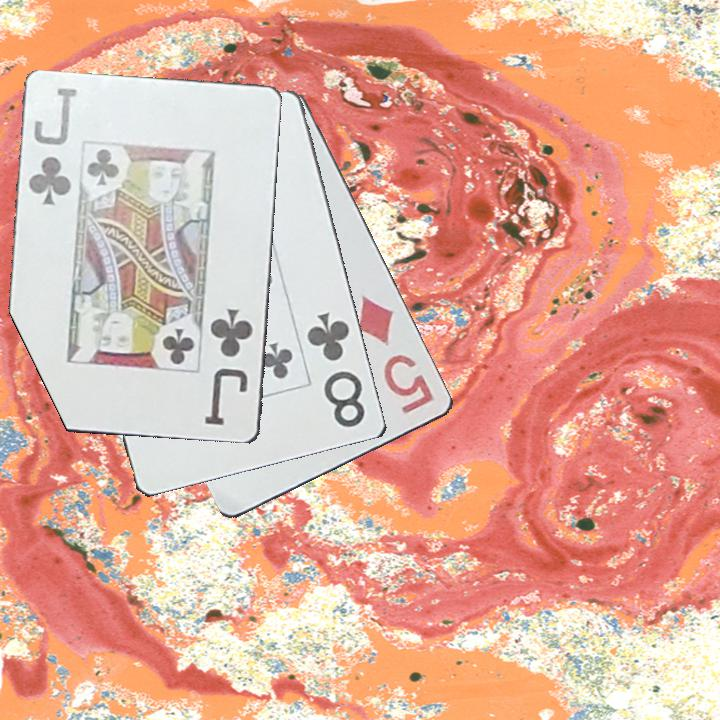5d: (351, 292, 438, 417)
8c: (303, 308, 369, 431)
Jc: (25, 84, 81, 209), (201, 305, 257, 429)
